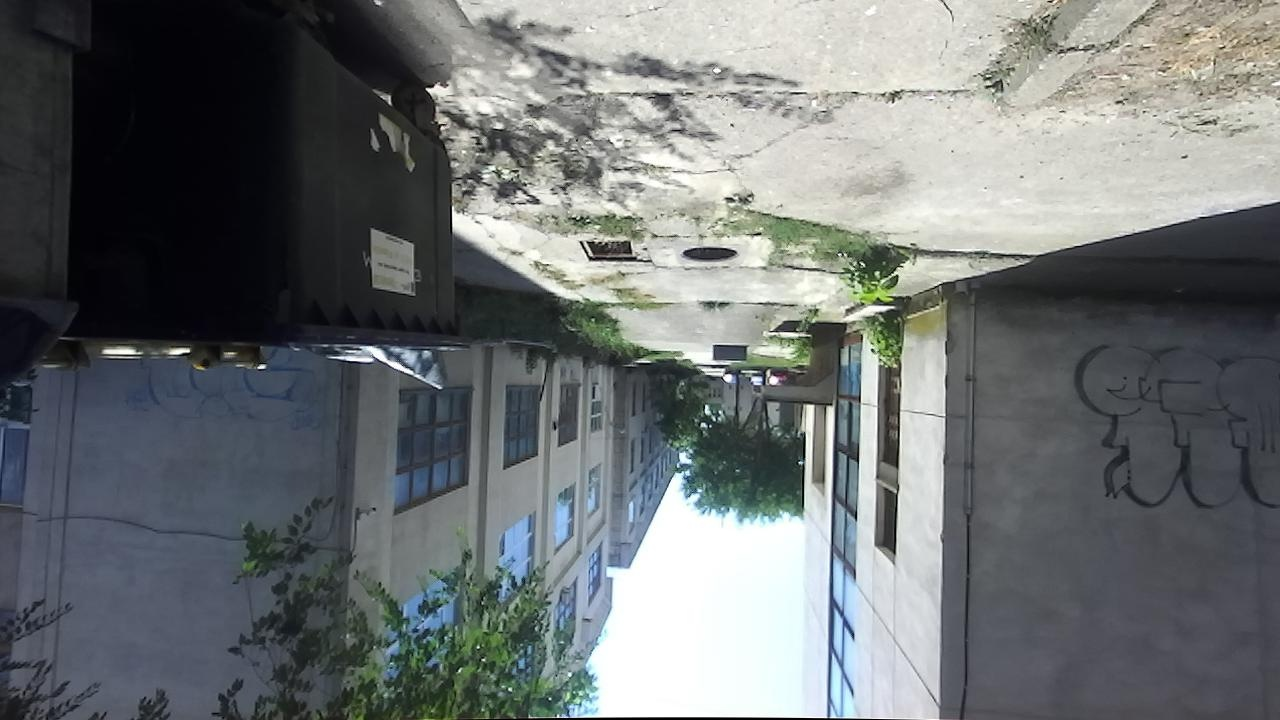drain: (574, 235, 635, 265), (676, 244, 737, 269)
